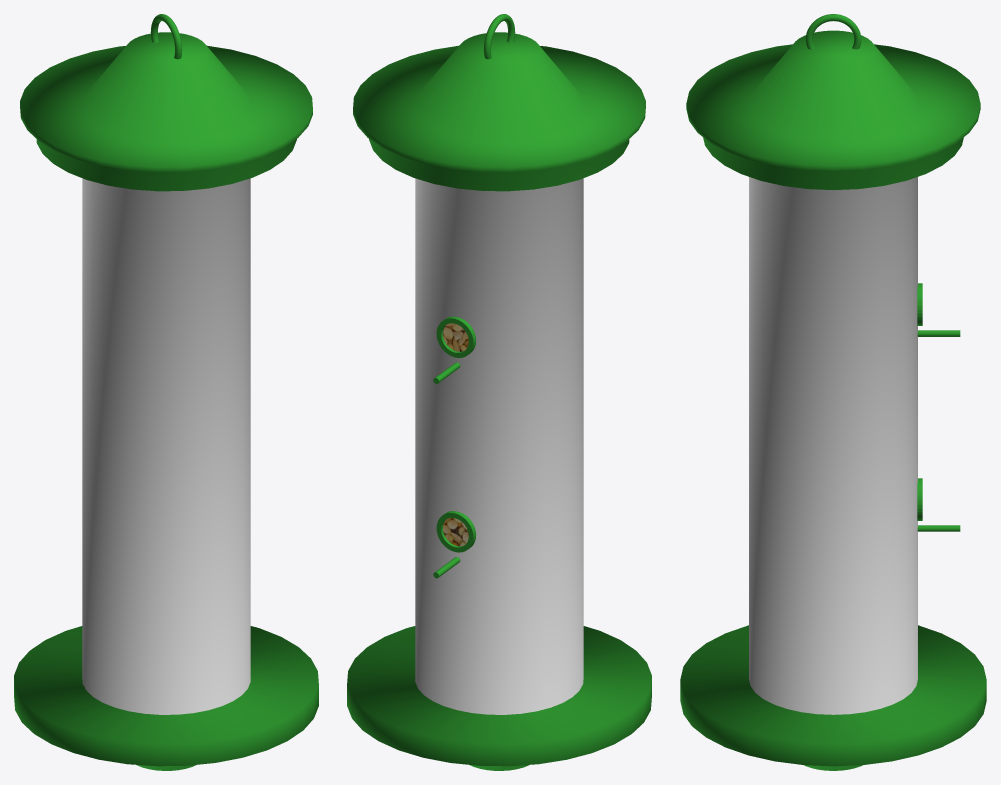
Rendered from Bird Feeder 5.fbx.
3 views of the same model, side by side, from view 1: azimuth 30°, elevation 25°; view 2: azimuth 150°, elevation 25°; view 3: azimuth 270°, elevation 25° (orthographic).
Parts seen in each view (by area): view 1: Cylinder.051, Torus.006; view 2: Cylinder.051, Cylinder.053, Cylinder.055, Torus.006; view 3: Cylinder.051, Torus.006.
Part boxes in pixels (x1,y1,x2,y2): Cylinder.051: (14,32,318,770); Torus.006: (150,14,182,59); Cylinder.051: (347,32,651,770); Cylinder.053: (436,511,476,552); Cylinder.055: (436,316,476,357); Torus.006: (483,14,515,59); Cylinder.051: (680,30,986,770); Torus.006: (805,14,861,49).
Size of the model in its own units: 238 by 636 by 238.
